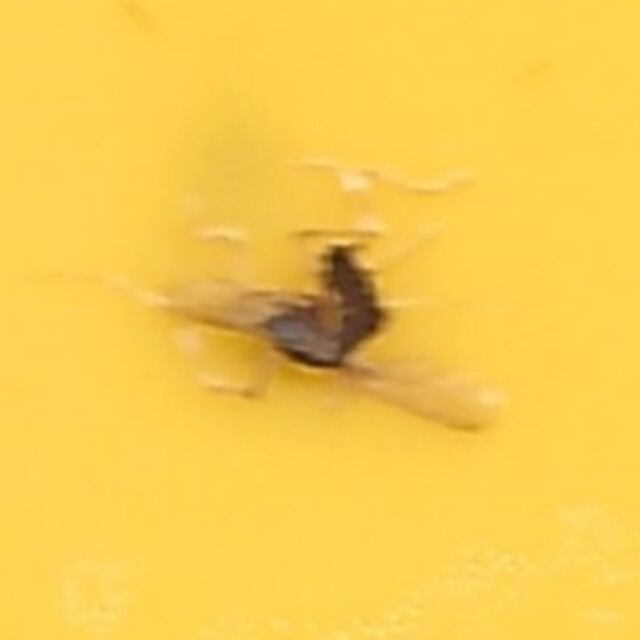Nematocera: (240, 235, 400, 405)
